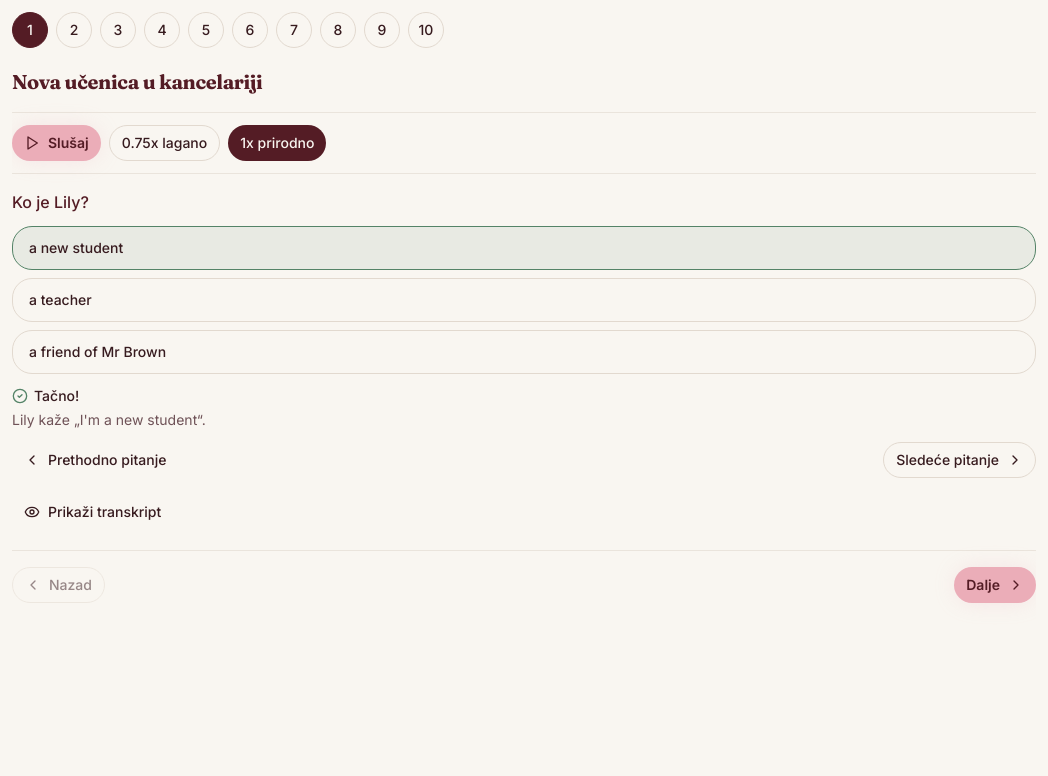
Unified lesson listening › keeps final answers and sends canonical reward codes for lesson 0
Earlier steps of the test are not shown.
Later steps or results of the test are not shown.
Click the button "Sledeće pitanje": (960, 460) [883,442,1036,478]
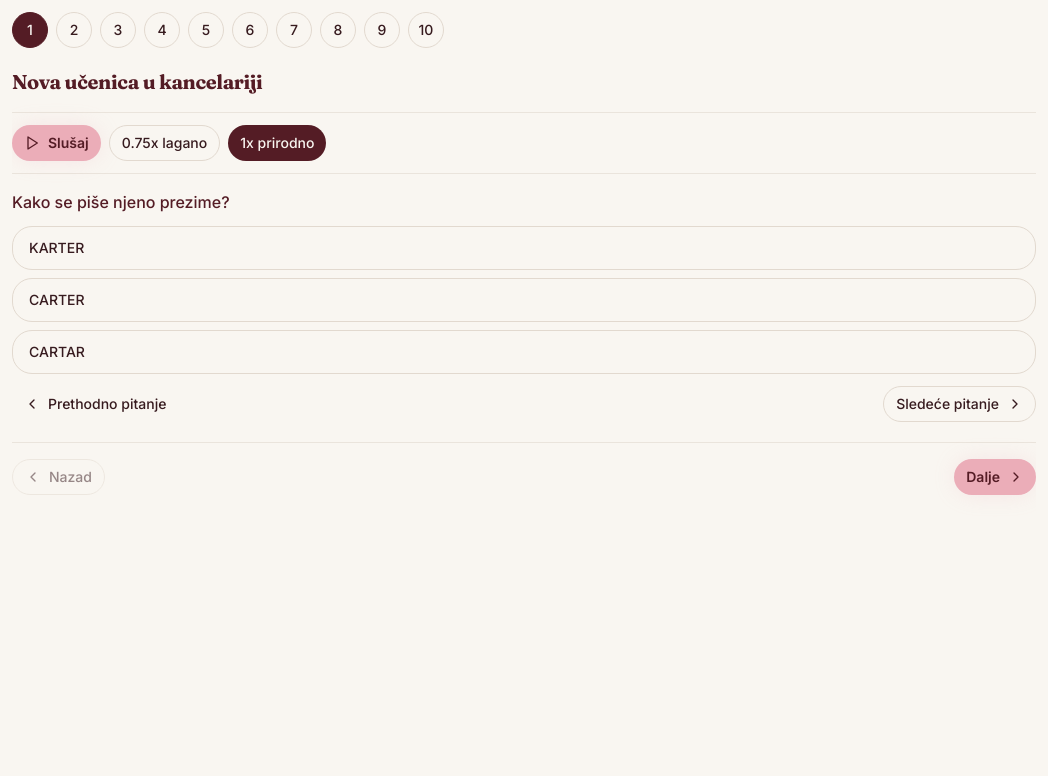
Click the button "CARTER": (57, 300) [12,278,1036,322]
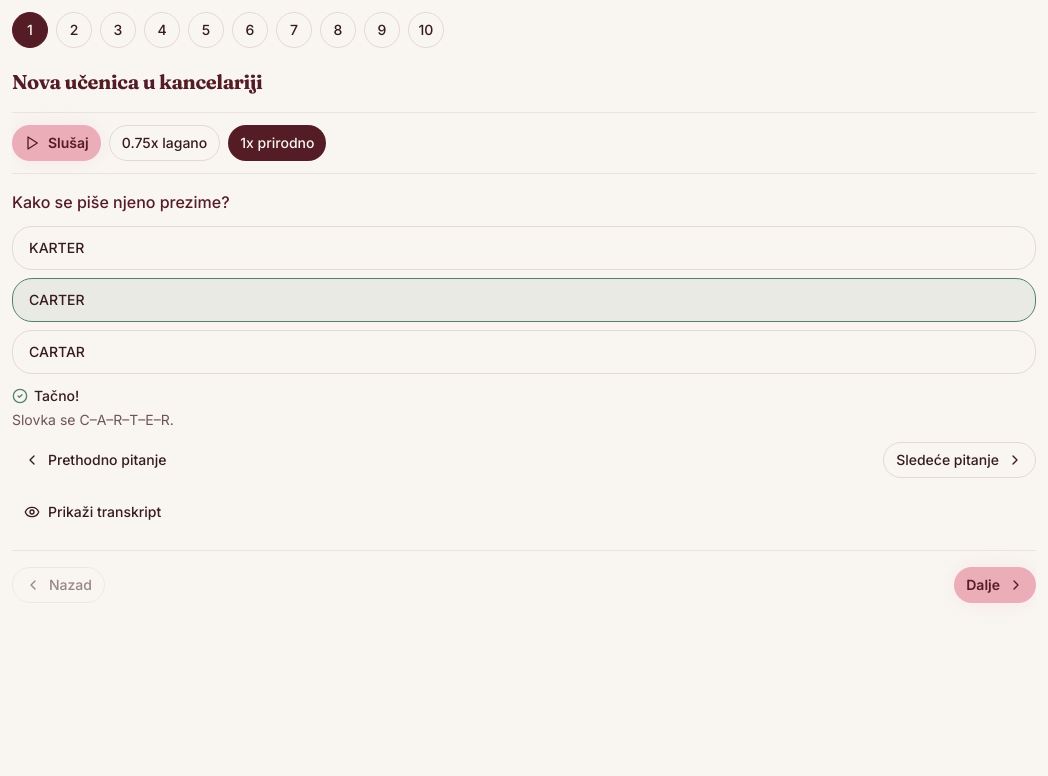
Click the button "Sledeće pitanje": (960, 460) [883,442,1036,478]
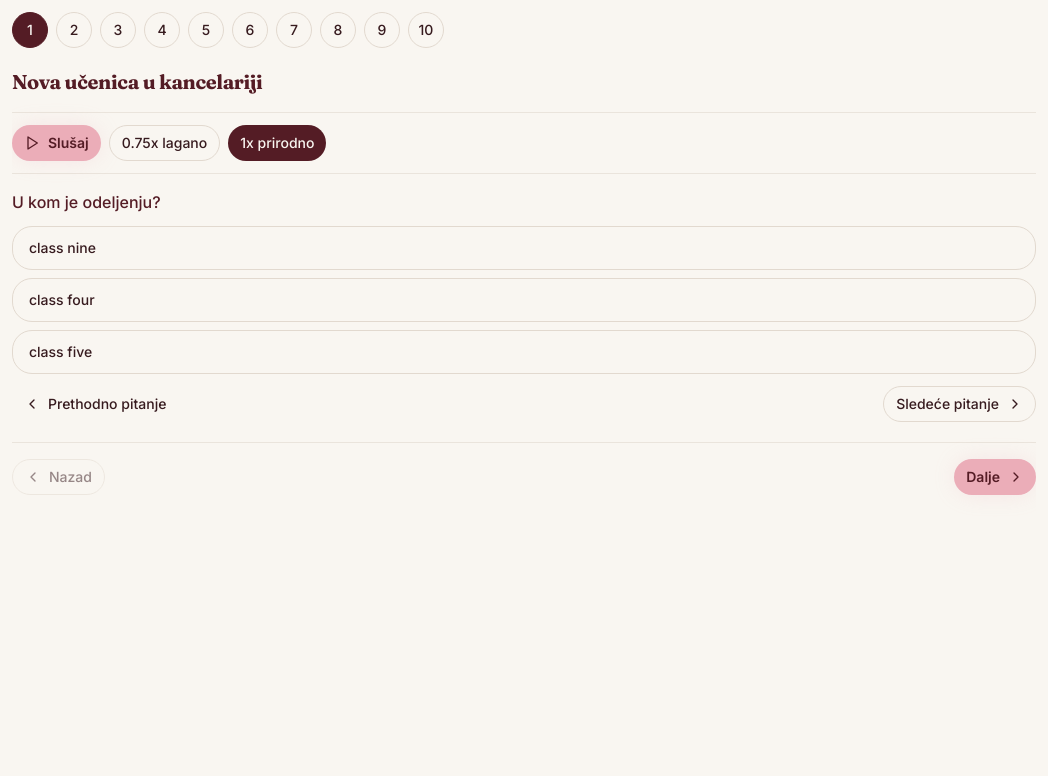
Click the button "class five": (61, 352) [12,330,1036,374]
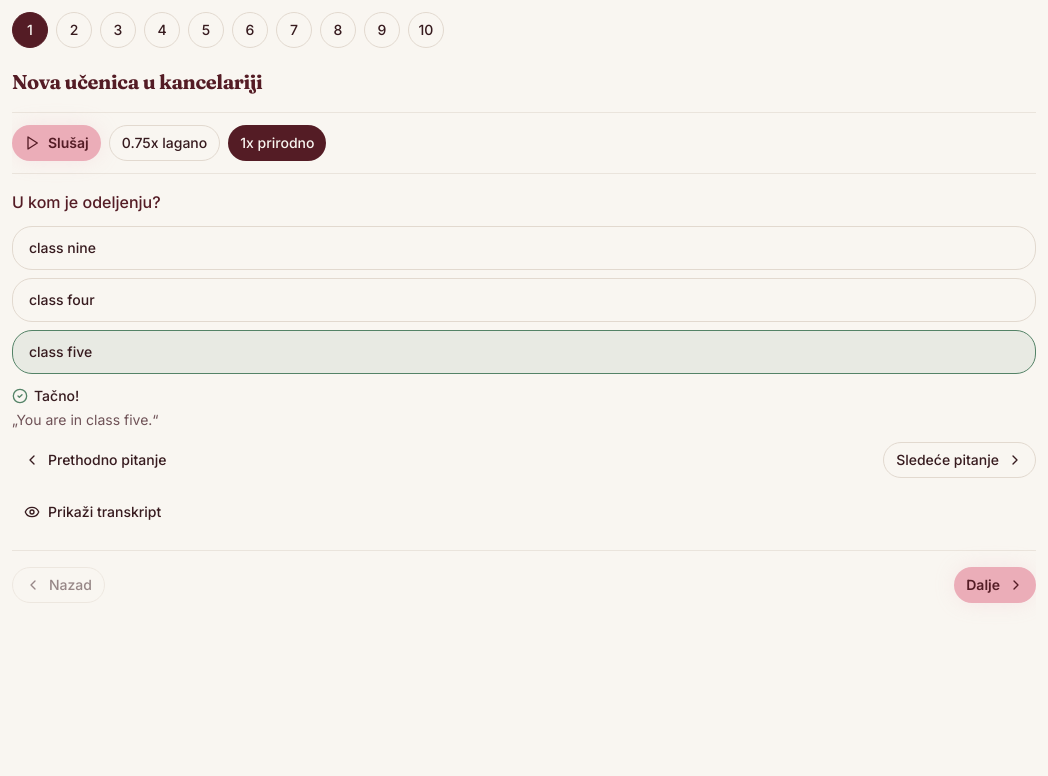
Click the button "Sledeće pitanje": (960, 460) [883,442,1036,478]
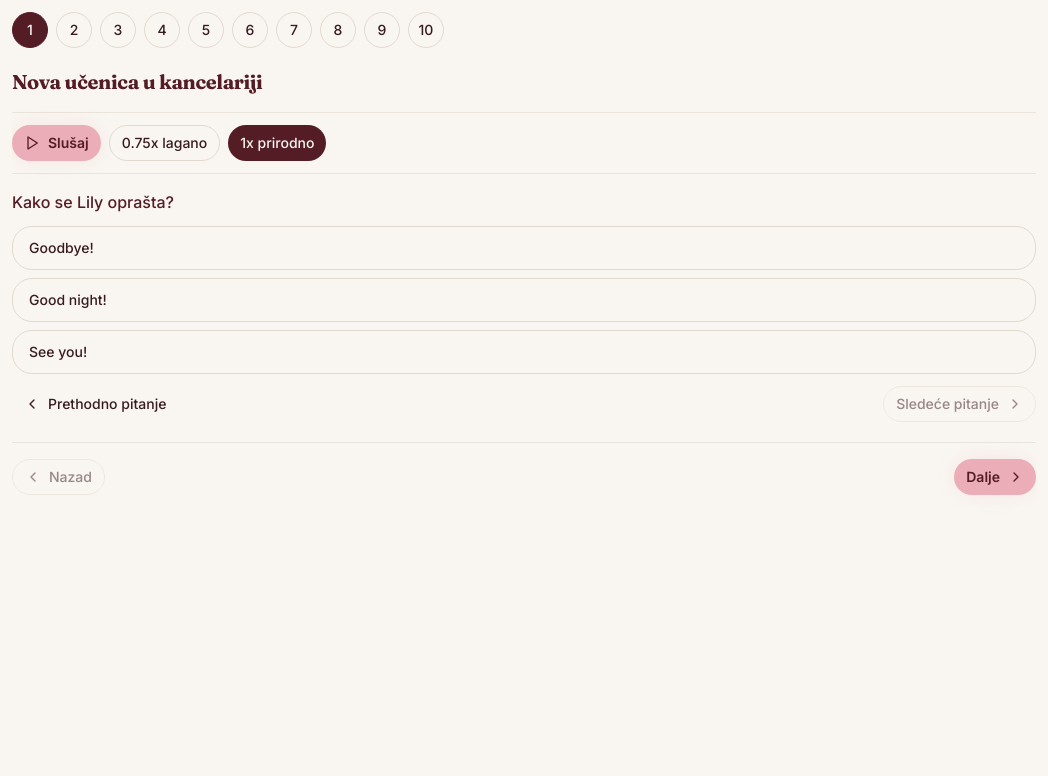
Click the button "Goodbye!": (61, 248) [12,226,1036,270]
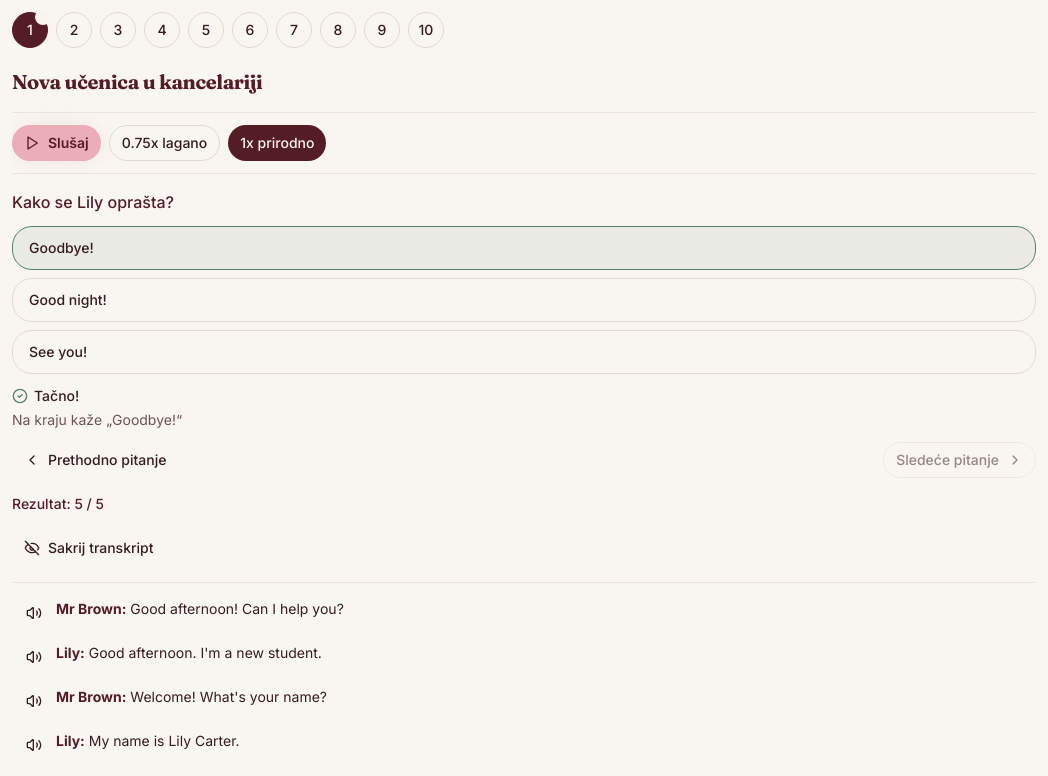
Result: the button "Goodbye!" is disabled at [12,226,1036,270]
